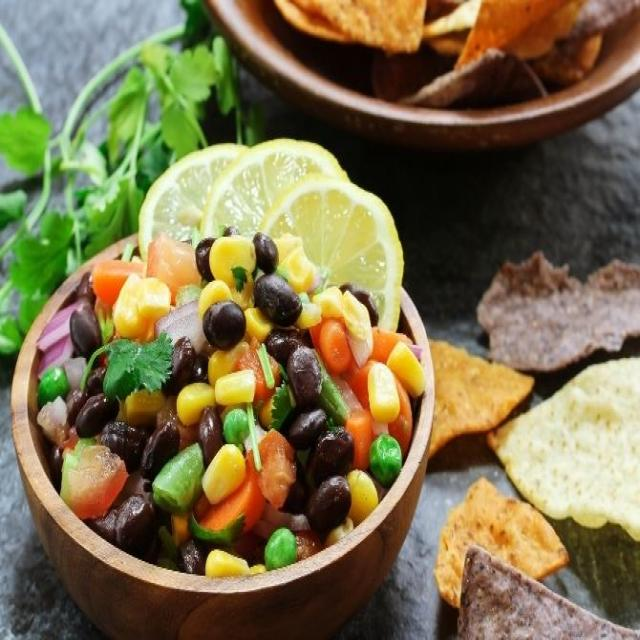frijoles: (34, 238, 405, 556)
